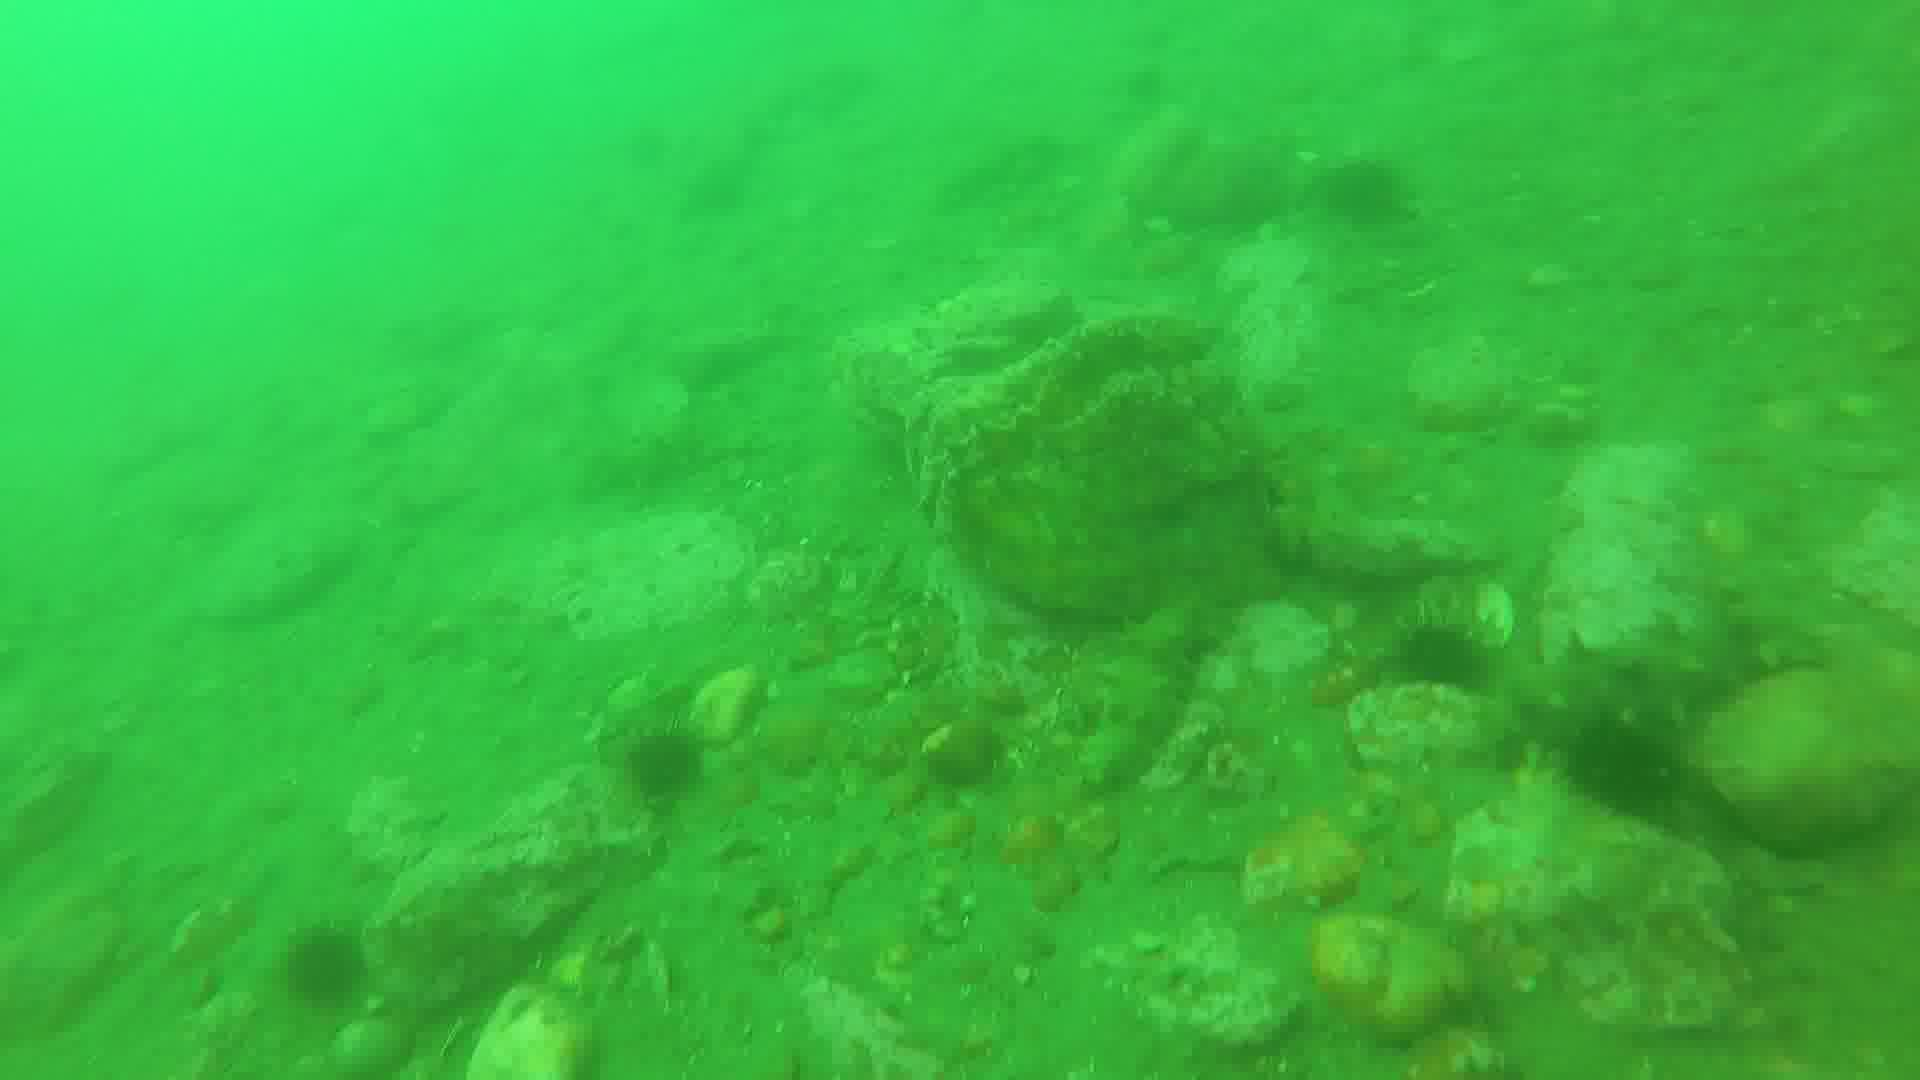echinus: (1567, 707, 1696, 818), (277, 916, 372, 1011), (1393, 613, 1495, 698), (618, 721, 700, 804)
